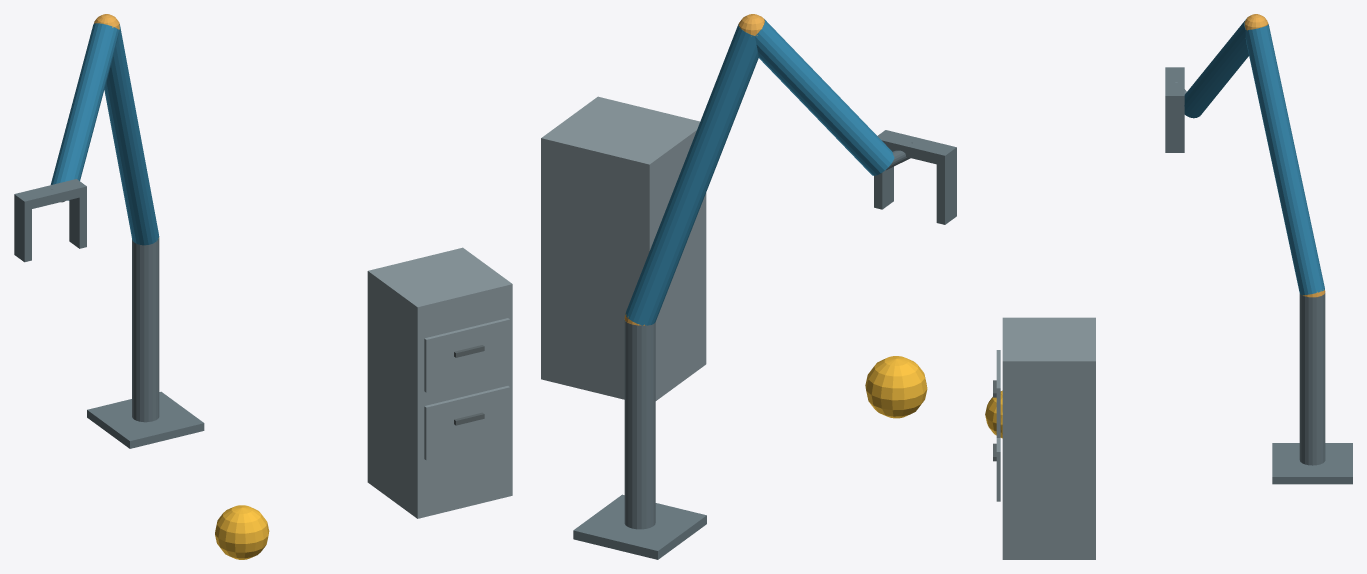
3 renders of one model, left to right at view 1: azimuth 30°, elevation 25°; view 2: azimuth 150°, elevation 25°; view 3: azimuth 270°, elevation 25°, orthographic. The views are drawn at different scales.
Visible parts, largest first — view 1: cabinet_1 body, moving link 1, fixed post, cabinet_1 drawer front, cabinet_1 drawer front.001, moving link 2, pedestal, ball ball_1, gripper bridge, gripper finger -1, gripper finger 1; view 2: cabinet_1 body, moving link 1, fixed post, moving link 2, pedestal, ball ball_1, gripper bridge, gripper finger -1, gripper finger 1; view 3: cabinet_1 body, moving link 1, fixed post, pedestal, moving link 2, gripper finger 1, gripper bridge, ball ball_1.
Part boxes in pixels (x1=…): cabinet_1 body: x1=367, y1=247, x2=512, y2=518; moving link 1: x1=104, y1=24, x2=159, y2=245; fixed post: x1=132, y1=238, x2=159, y2=422; cabinet_1 drawer front: x1=424, y1=386, x2=509, y2=460; cabinet_1 drawer front.001: x1=424, y1=318, x2=509, y2=392; moving link 2: x1=50, y1=23, x2=119, y2=200; pedestal: x1=87, y1=391, x2=204, y2=448; ball ball_1: x1=215, y1=505, x2=269, y2=559; gripper bridge: x1=14, y1=179, x2=86, y2=210; gripper finger -1: x1=14, y1=204, x2=31, y2=262; gripper finger 1: x1=69, y1=196, x2=86, y2=248; cabinet_1 body: x1=541, y1=96, x2=706, y2=400; moving link 1: x1=625, y1=24, x2=758, y2=325; fixed post: x1=624, y1=320, x2=655, y2=529; moving link 2: x1=755, y1=19, x2=894, y2=175; pedestal: x1=573, y1=494, x2=706, y2=559; ball ball_1: x1=865, y1=356, x2=927, y2=418; gripper bridge: x1=877, y1=130, x2=956, y2=166; gripper finger -1: x1=936, y1=158, x2=956, y2=224; gripper finger 1: x1=874, y1=166, x2=893, y2=209; cabinet_1 body: x1=1002, y1=317, x2=1095, y2=559; moving link 1: x1=1245, y1=24, x2=1324, y2=295; fixed post: x1=1299, y1=293, x2=1325, y2=465; pedestal: x1=1272, y1=443, x2=1352, y2=484; moving link 2: x1=1184, y1=19, x2=1248, y2=118; gripper finger 1: x1=1165, y1=104, x2=1184, y2=152; gripper bridge: x1=1165, y1=67, x2=1184, y2=104; ball ball_1: x1=985, y1=390, x2=1002, y2=438.
Bounding box in the file's own units: 1.35 × 1.44 × 1.14.
